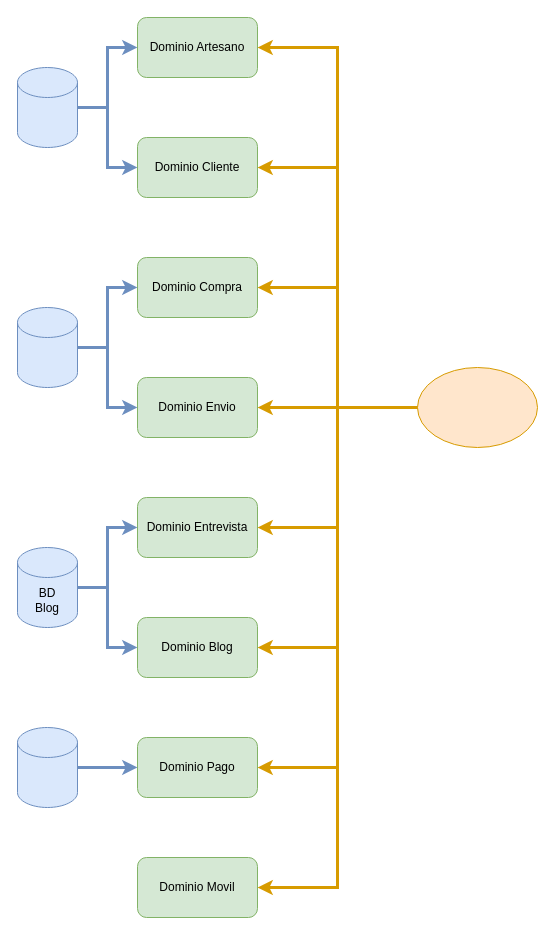
Image size: 555x935. Some labels were removed from this diagram. Each missing label, with the centre of its shape:
"API GATEWAY" belongs at point (477, 407).
"BD Compras" belongs at point (47, 347).
"BD Pagos" belongs at point (47, 767).
"BD Usuario" belongs at point (47, 107).
